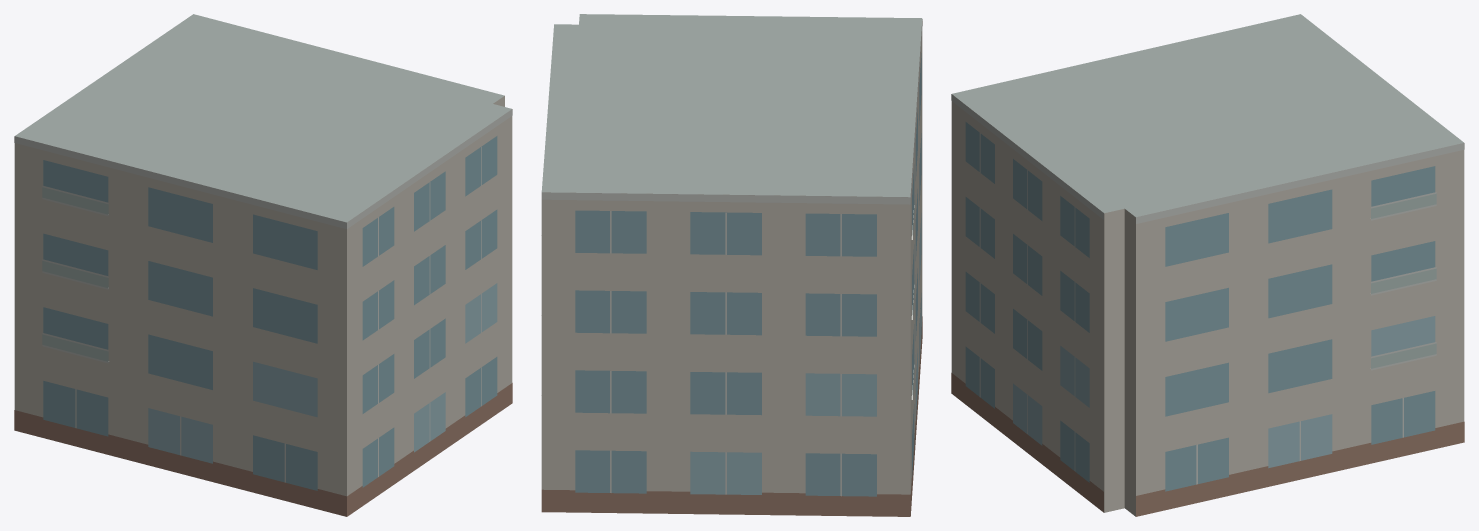
The model's file is survey-upis-32744222.glb.
The picture shows the model from 3 angles, left to right: view 1: azimuth 30°, elevation 25°; view 2: azimuth 150°, elevation 25°; view 3: azimuth 270°, elevation 25°; orthographic projection. The views are drawn at different scales.
Visible parts, largest first — view 1: survey-upis-32744222.tmp; view 2: survey-upis-32744222.tmp; view 3: survey-upis-32744222.tmp.
Boxes of the visible parts, bbox=[...] form: survey-upis-32744222.tmp: bbox=[14, 14, 512, 516]; survey-upis-32744222.tmp: bbox=[541, 14, 922, 516]; survey-upis-32744222.tmp: bbox=[951, 14, 1464, 516].
Size of the model in its own units: 15.43 by 10.6 by 16.46.
